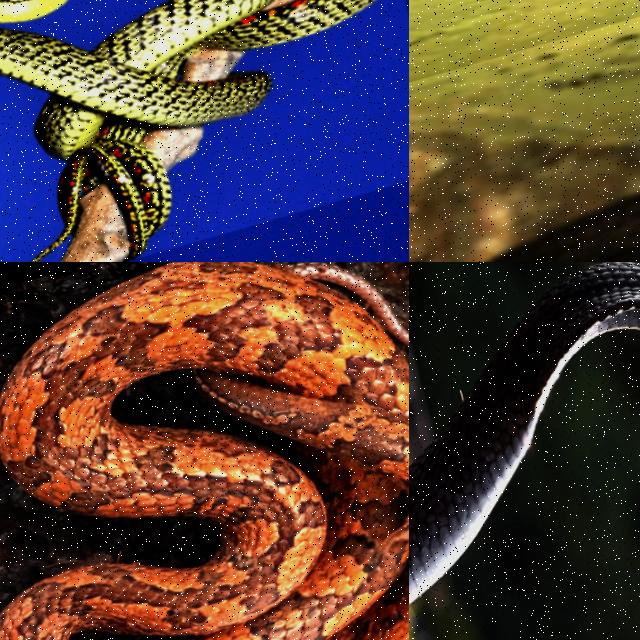Chrysopelea ornata: (0, 0, 374, 261)
Naja siamensis: (492, 194, 639, 261)
Ophiophagus hannah: (409, 262, 639, 602)
Ovophis monticola: (0, 262, 408, 639)
